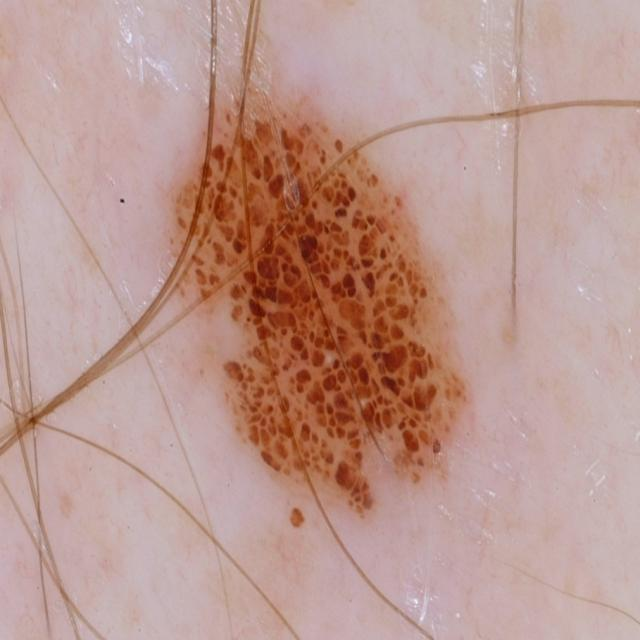Benign: (159, 86, 476, 524)
